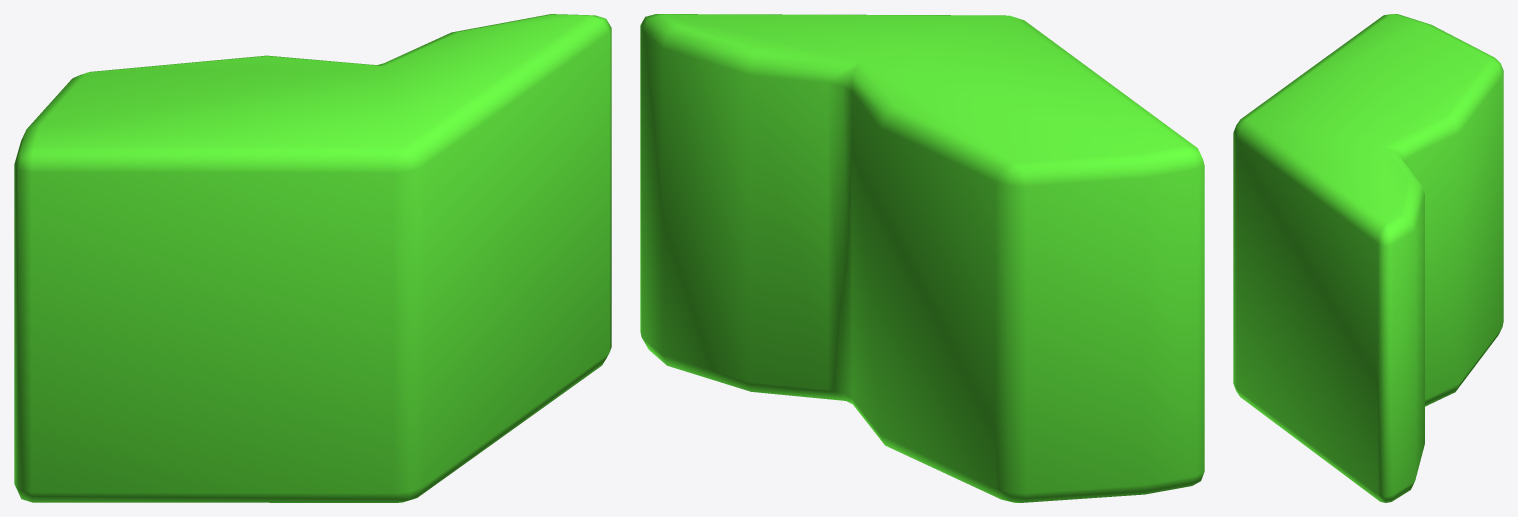
The model's file is grass_border3.glb.
The picture shows the model from 3 angles, left to right: view 1: azimuth 30°, elevation 25°; view 2: azimuth 150°, elevation 25°; view 3: azimuth 270°, elevation 25°; orthographic projection. The views are drawn at different scales.
Visible parts, largest first — view 1: grass_border3; view 2: grass_border3; view 3: grass_border3.
Boxes of the visible parts, x1,y1,x2,y2 form: grass_border3: [14, 14, 611, 502]; grass_border3: [640, 14, 1204, 502]; grass_border3: [1233, 14, 1503, 502].
Size of the model in its own units: 6.96 by 4 by 3.53.
